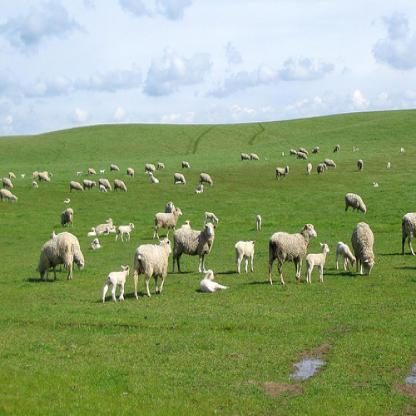sheep: (266, 223, 316, 285), (171, 222, 216, 275), (133, 238, 172, 298), (34, 235, 74, 282), (350, 220, 376, 276), (102, 264, 130, 303), (306, 239, 330, 283), (152, 206, 182, 238), (198, 268, 230, 294), (234, 239, 255, 274), (341, 190, 370, 215), (400, 210, 415, 258), (335, 240, 356, 273), (114, 217, 136, 244), (95, 217, 115, 234), (58, 206, 74, 226), (197, 170, 215, 187), (274, 162, 290, 181), (113, 177, 128, 196), (0, 187, 18, 202), (69, 178, 83, 194), (203, 210, 220, 223), (82, 177, 96, 192), (172, 171, 186, 186), (98, 176, 112, 190), (88, 237, 102, 251), (1, 176, 15, 188), (38, 170, 50, 183), (148, 172, 160, 185), (324, 156, 336, 168), (255, 212, 262, 231), (97, 183, 109, 193), (296, 150, 308, 160), (144, 162, 156, 172), (356, 158, 364, 173), (126, 166, 136, 178), (194, 183, 204, 195), (311, 144, 320, 156), (240, 151, 250, 161), (86, 225, 96, 235), (298, 146, 308, 156), (30, 180, 40, 190), (250, 152, 260, 161), (109, 163, 119, 172), (306, 162, 312, 176), (7, 171, 16, 180), (88, 166, 96, 176), (289, 146, 297, 156), (62, 196, 70, 206), (181, 160, 190, 168), (98, 166, 107, 174), (333, 143, 340, 153), (157, 160, 165, 168), (32, 170, 38, 178), (77, 170, 83, 176), (20, 173, 26, 179)
